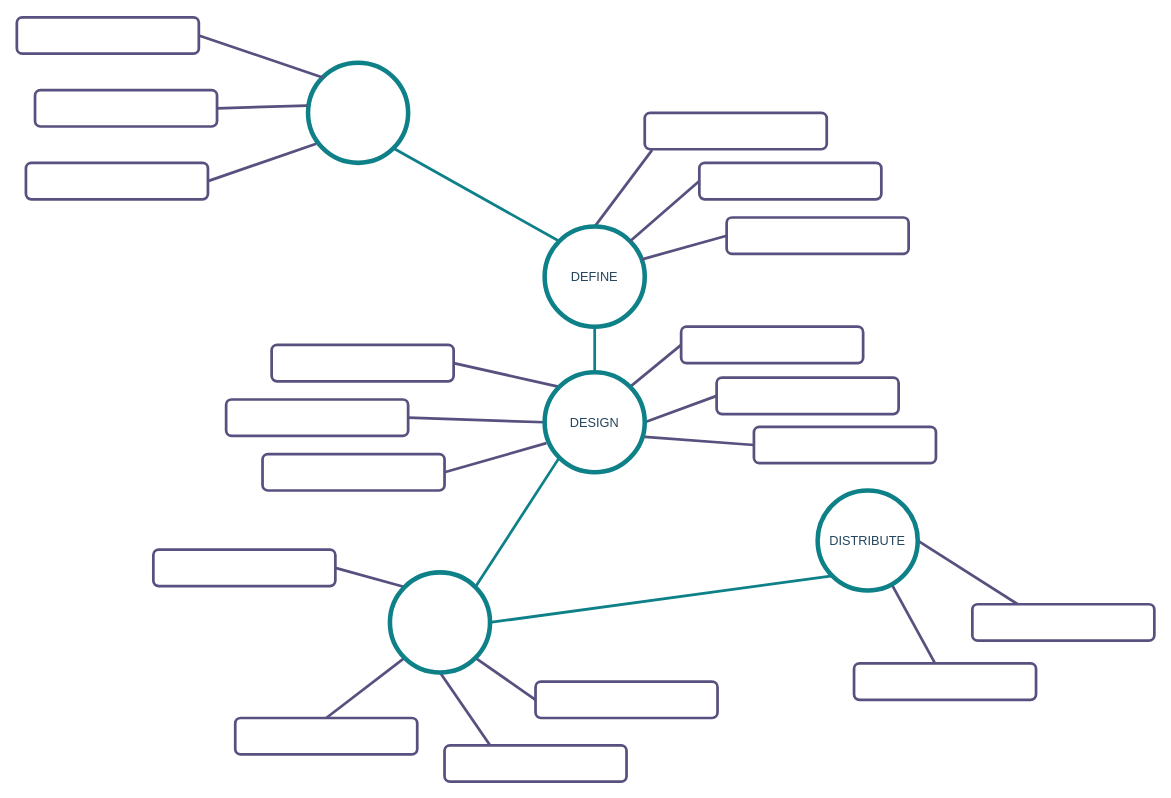
This 1171x798 diagram has some shape labels left out. Here are the shapes that lost their labels. From the top down, the box of each, then its label:
(305, 60, 410, 165): DISCOVER
(387, 570, 492, 674): DELIVER
